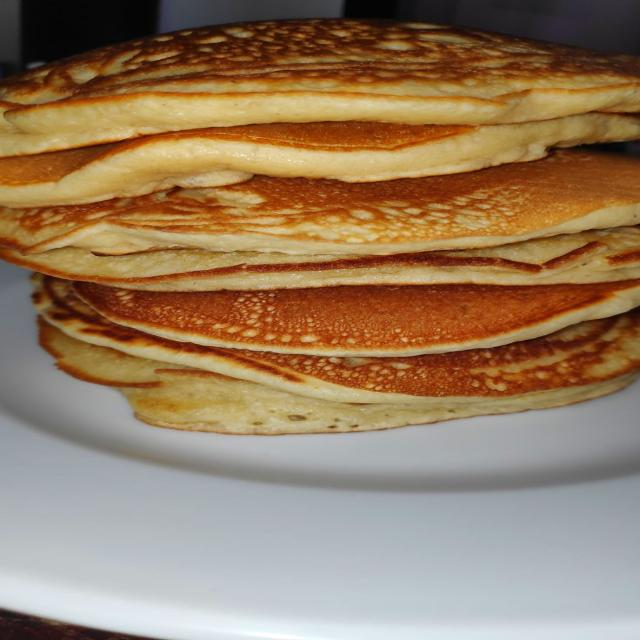pancake: (0, 19, 639, 155), (34, 279, 639, 405), (40, 318, 639, 434), (0, 150, 639, 256), (0, 113, 639, 206), (74, 280, 639, 356), (0, 227, 639, 291)
